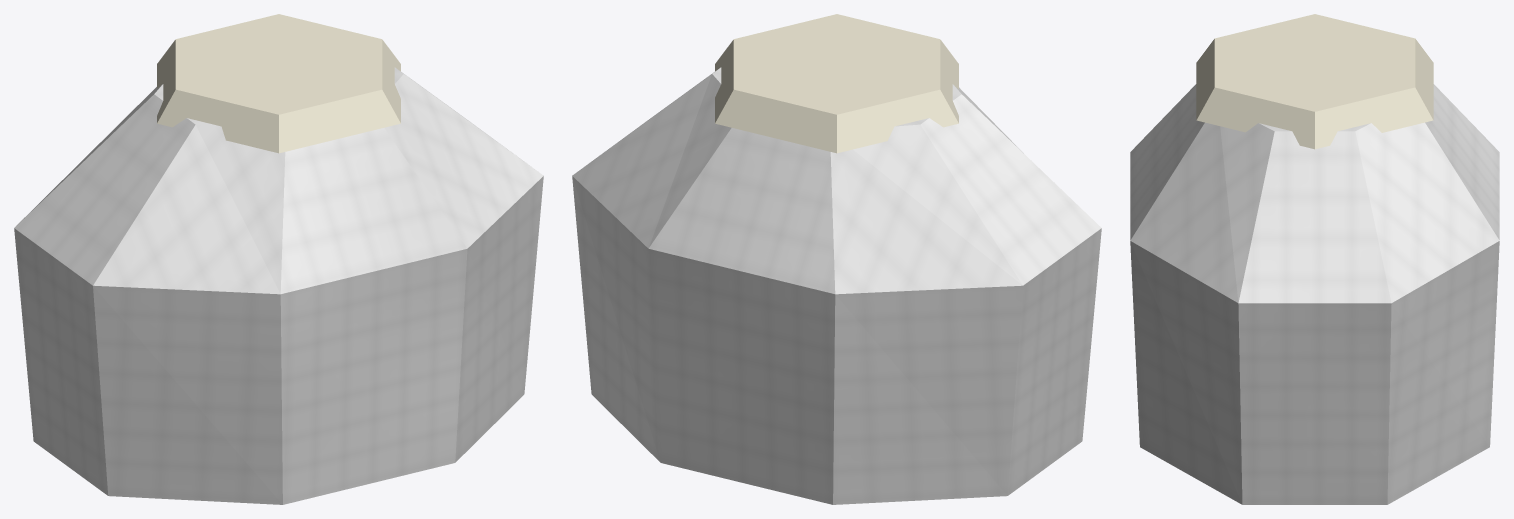
File: food_rice.obj
3 views of the same model, side by side, from view 1: azimuth 30°, elevation 25°; view 2: azimuth 150°, elevation 25°; view 3: azimuth 270°, elevation 25° (orthographic). The views are drawn at different scales.
Visible parts, largest first — view 1: food_rice; view 2: food_rice; view 3: food_rice.
Part boxes in pixels (x1=…): food_rice: x1=14, y1=14, x2=543, y2=504; food_rice: x1=572, y1=14, x2=1101, y2=504; food_rice: x1=1130, y1=14, x2=1499, y2=504.
Bounding box in the file's own units: 0.4804 × 0.36 × 0.351.
